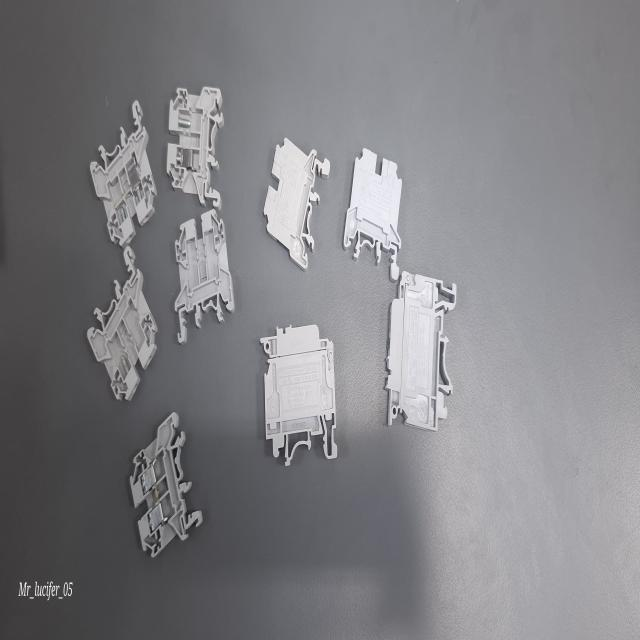Inverted: (264, 136, 332, 266), (342, 145, 403, 280)
Pass: (129, 411, 206, 560)
Reject: (86, 243, 156, 402), (88, 100, 156, 243), (174, 212, 237, 341), (168, 84, 226, 214)
